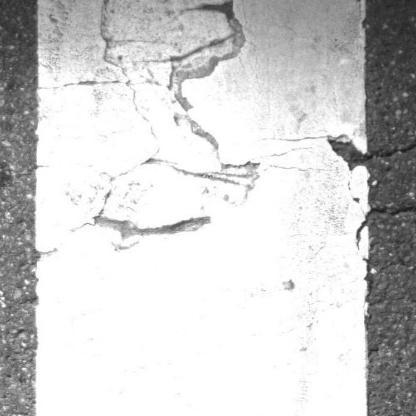Cracks: (354, 133, 416, 165), (362, 200, 416, 225)
